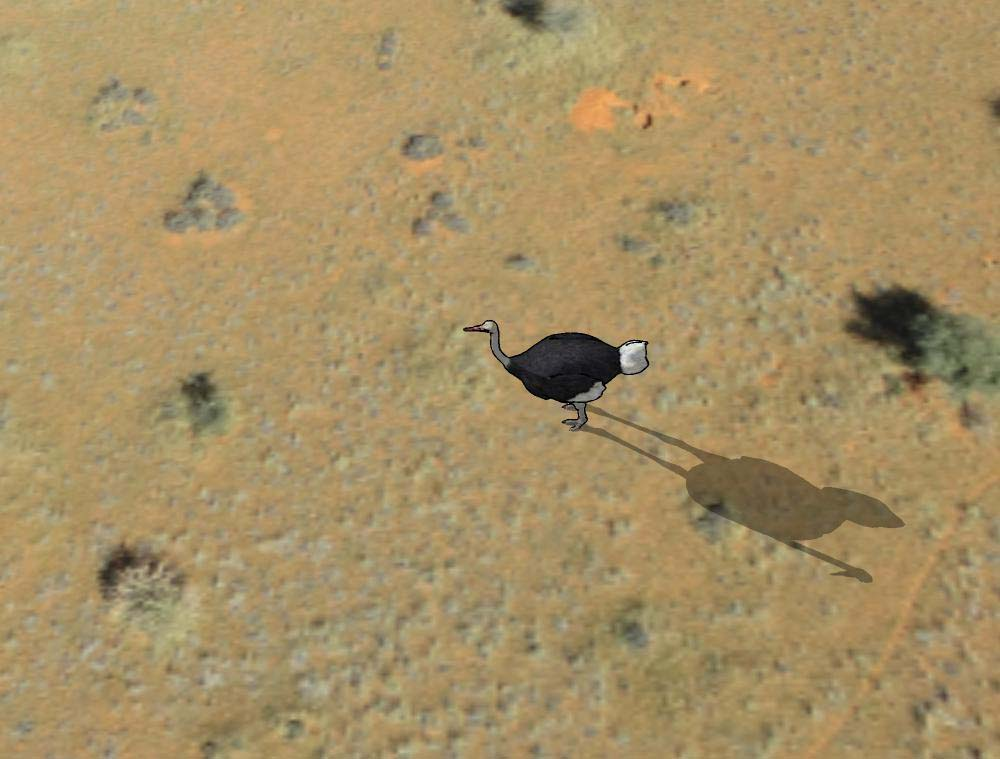ostrich: (463, 303, 655, 441)
